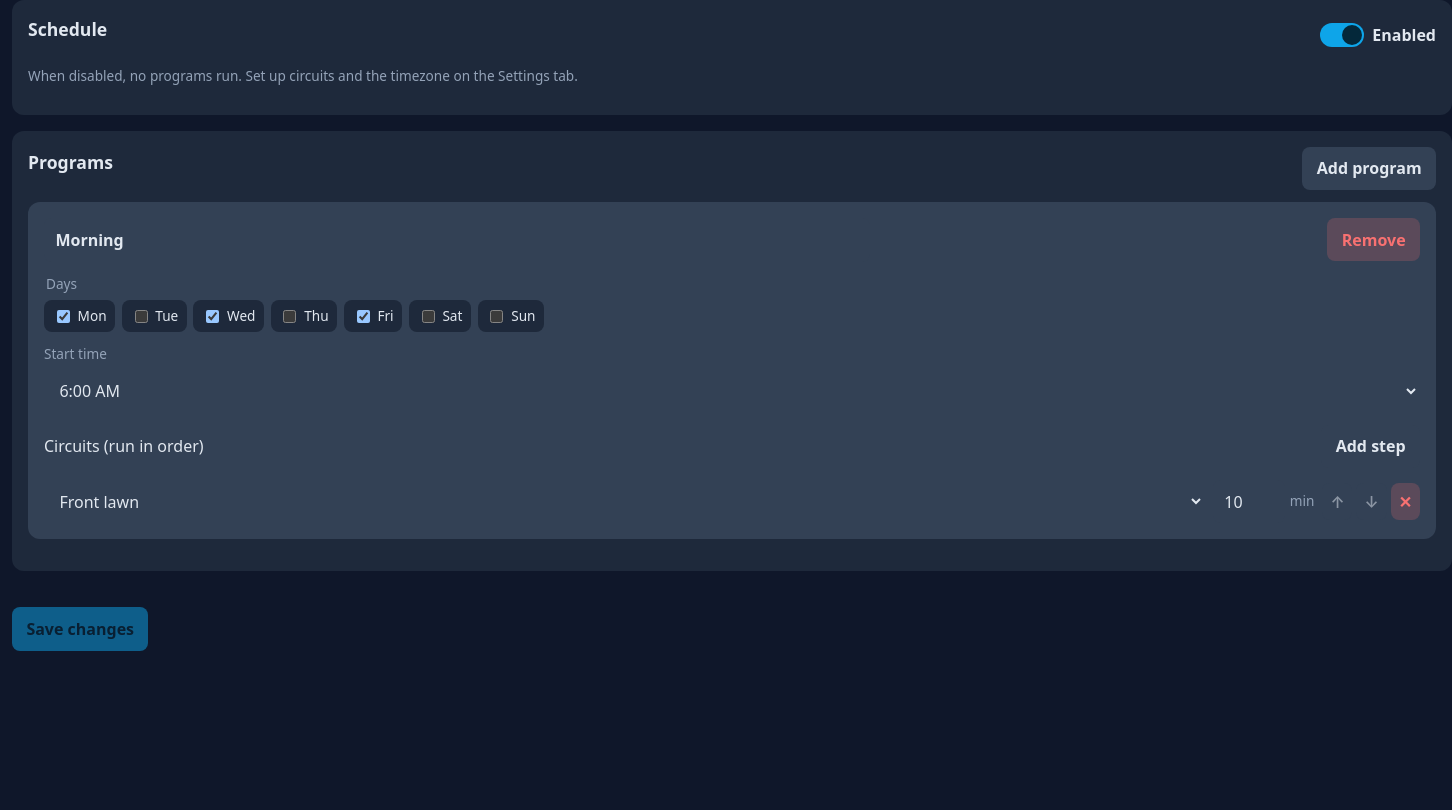
Test: ScheduleEditor › keeps save disabled until an edit makes the draft dirty
Expected: the button "Save changes" is disabled, [12,608,148,651]
What coordinates should you click on to do the following:
click the switch named "Schedule enabled"
I would click on:
 (1378, 35)
Its box is [1320,23,1436,47].
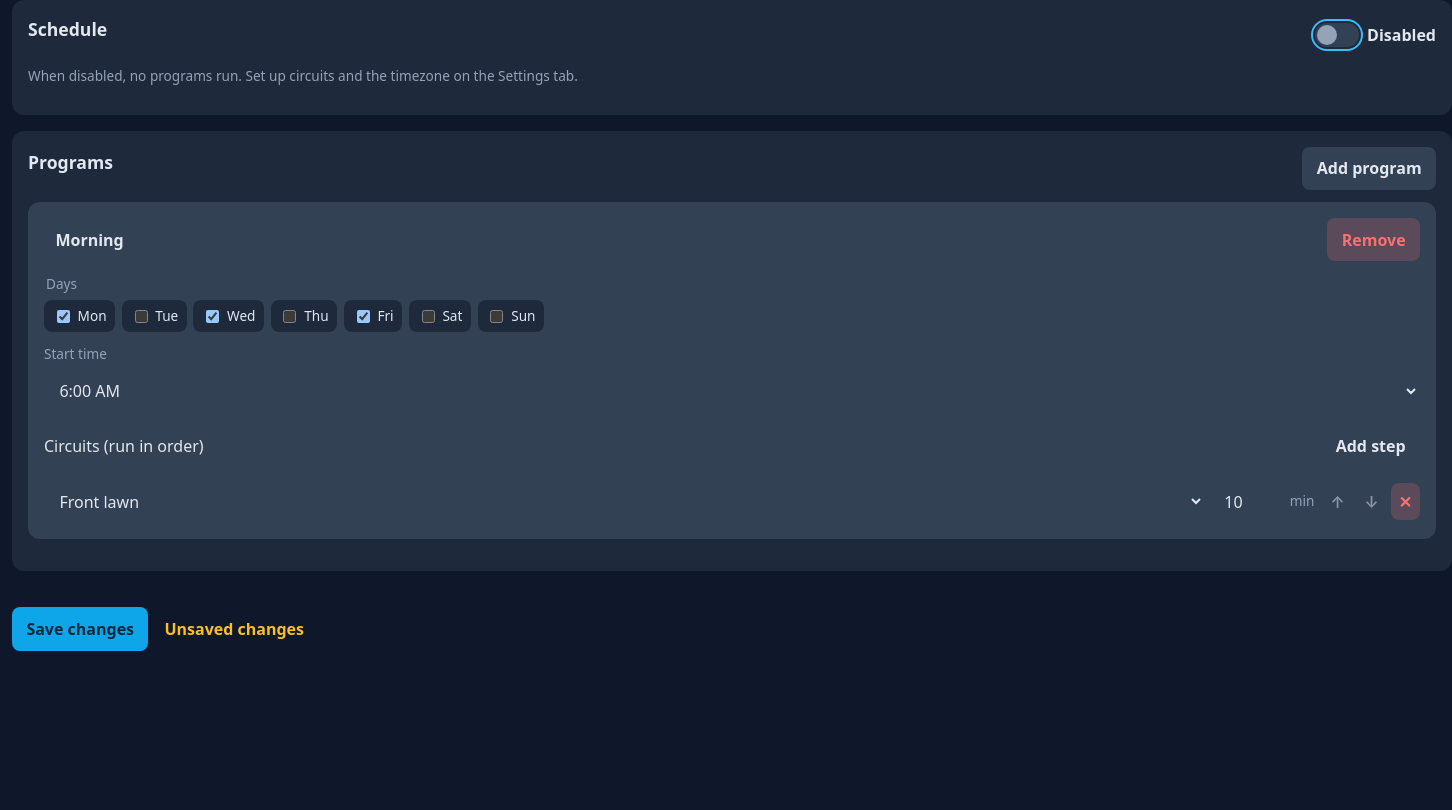
Now the button "Save changes" is enabled, box [12,608,148,651]
